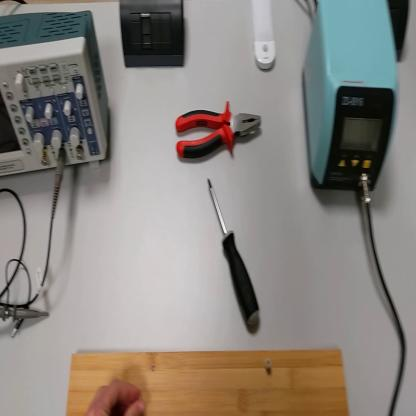hand: (87, 380, 144, 413)
oscilloscope: (2, 8, 114, 178)
oscilloscope probe tip: (2, 304, 50, 324)
pliers: (176, 104, 261, 164)
screwdriver-: (207, 174, 261, 334)
socket: (387, 3, 410, 60)
welder station: (302, 2, 399, 194)
working area: (64, 346, 350, 415)
